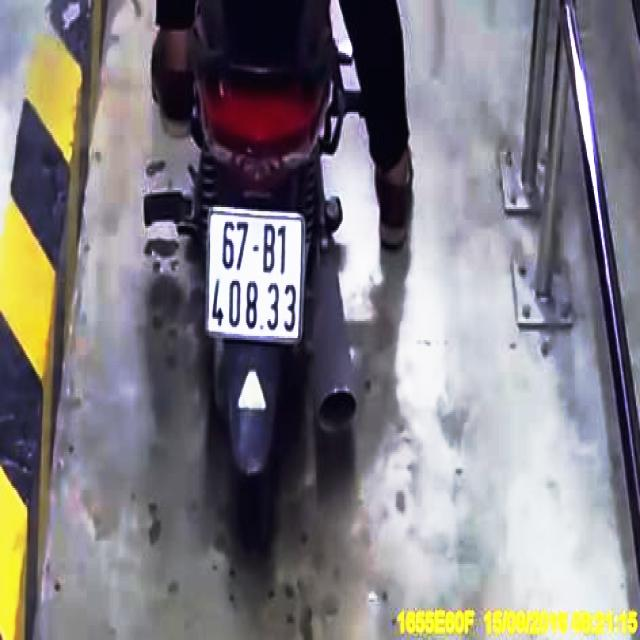license_plate: (207, 212, 306, 341)
